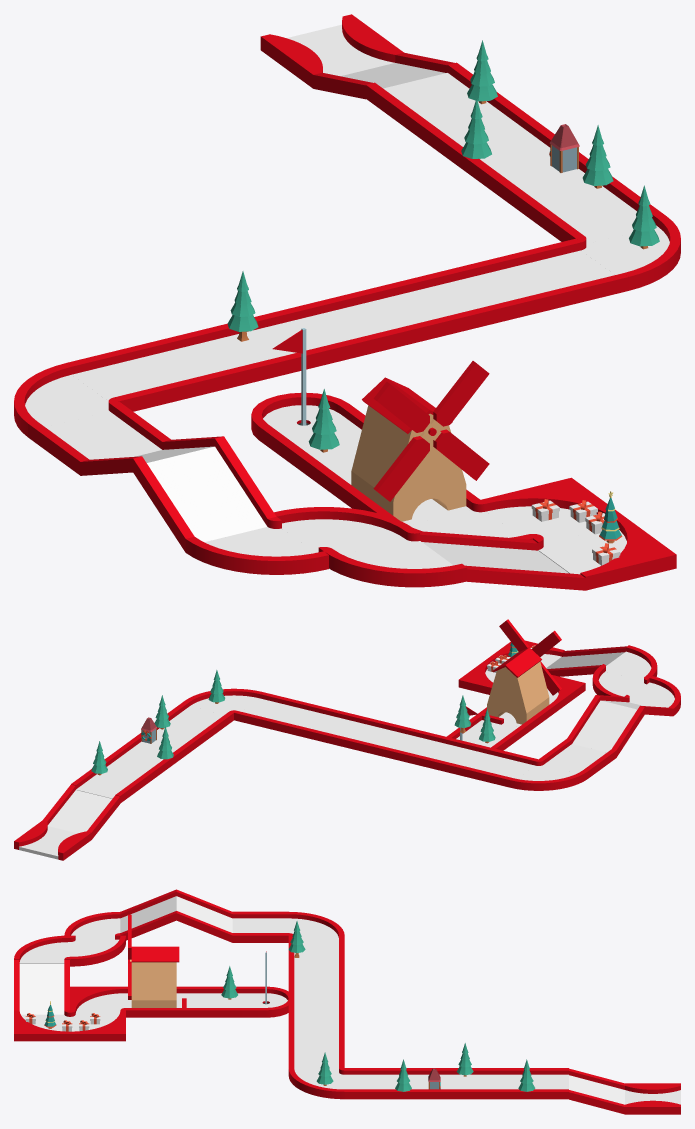
Rendered from craciun.obj.
The picture shows the model from 3 angles, top to bottom: view 1: azimuth 30°, elevation 25°; view 2: azimuth 150°, elevation 25°; view 3: azimuth 270°, elevation 25°; orthographic projection. The views are drawn at different scales.
Size of the model in its own units: 7.6 by 1.58 by 11.9.
